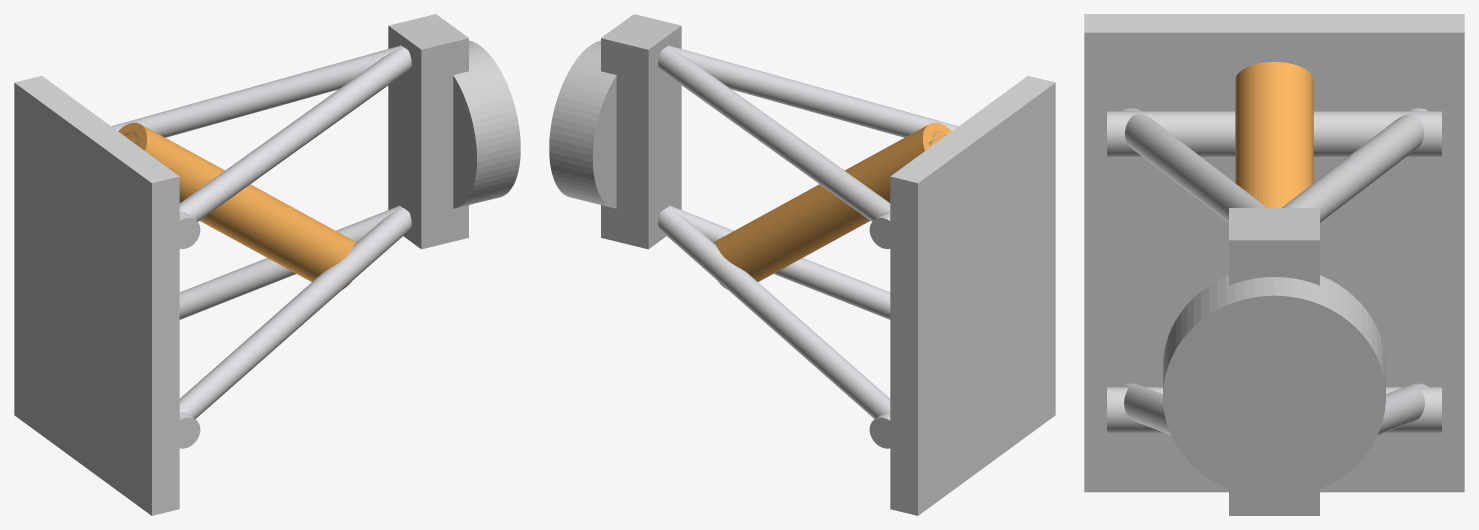
Rendered from rover17_suspension_arm_m_susp_up.glb.
The picture shows the model from 3 angles, left to right: view 1: azimuth 30°, elevation 25°; view 2: azimuth 150°, elevation 25°; view 3: azimuth 270°, elevation 25°; orthographic projection. The views are drawn at different scales.
Parts seen in each view (by area): view 1: mount_plate, arm_upright, arm_upper, arm_lower, spring; view 2: mount_plate, arm_upright, arm_upper, arm_lower, spring; view 3: mount_plate, arm_upright, arm_upper, spring, arm_lower.
Part boxes in pixels (x1=…): mount_plate: x1=14, y1=76, x2=179, y2=515; arm_upright: x1=388, y1=14, x2=520, y2=249; arm_upper: x1=111, y1=45, x2=411, y2=248; arm_lower: x1=179, y1=205, x2=411, y2=448; spring: x1=118, y1=122, x2=356, y2=288; mount_plate: x1=890, y1=76, x2=1055, y2=515; arm_upright: x1=549, y1=14, x2=681, y2=249; arm_upper: x1=658, y1=45, x2=958, y2=248; arm_lower: x1=658, y1=205, x2=890, y2=448; spring: x1=713, y1=122, x2=951, y2=288; mount_plate: x1=1084, y1=14, x2=1464, y2=492; arm_upright: x1=1163, y1=208, x2=1385, y2=515; arm_upper: x1=1107, y1=108, x2=1441, y2=222; spring: x1=1235, y1=62, x2=1313, y2=207; arm_lower: x1=1107, y1=383, x2=1441, y2=434.
Bounding box in the file's own units: 0.5 × 0.42 × 0.3.
